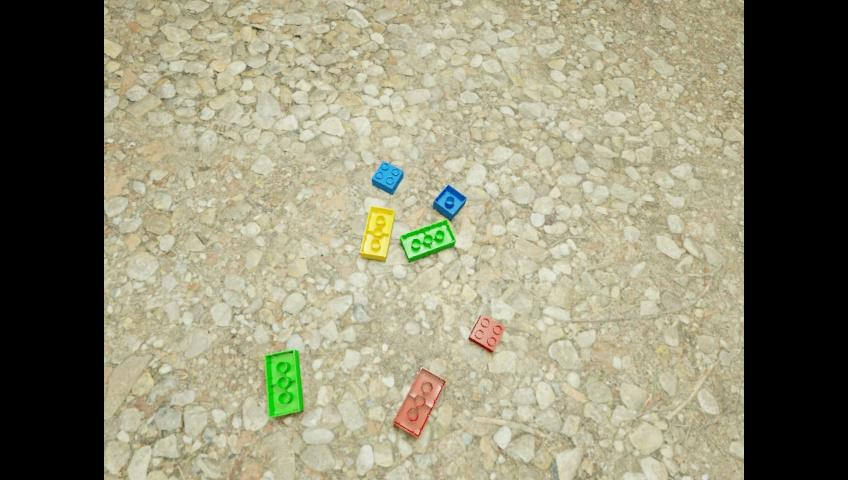2x2_blue: (432, 183, 466, 219), (372, 160, 402, 194)
2x2_red: (468, 313, 506, 352)
4x2_green: (264, 348, 303, 417), (399, 220, 455, 263)
4x2_red: (392, 366, 445, 438)
4x2_yellow: (360, 205, 394, 260)
